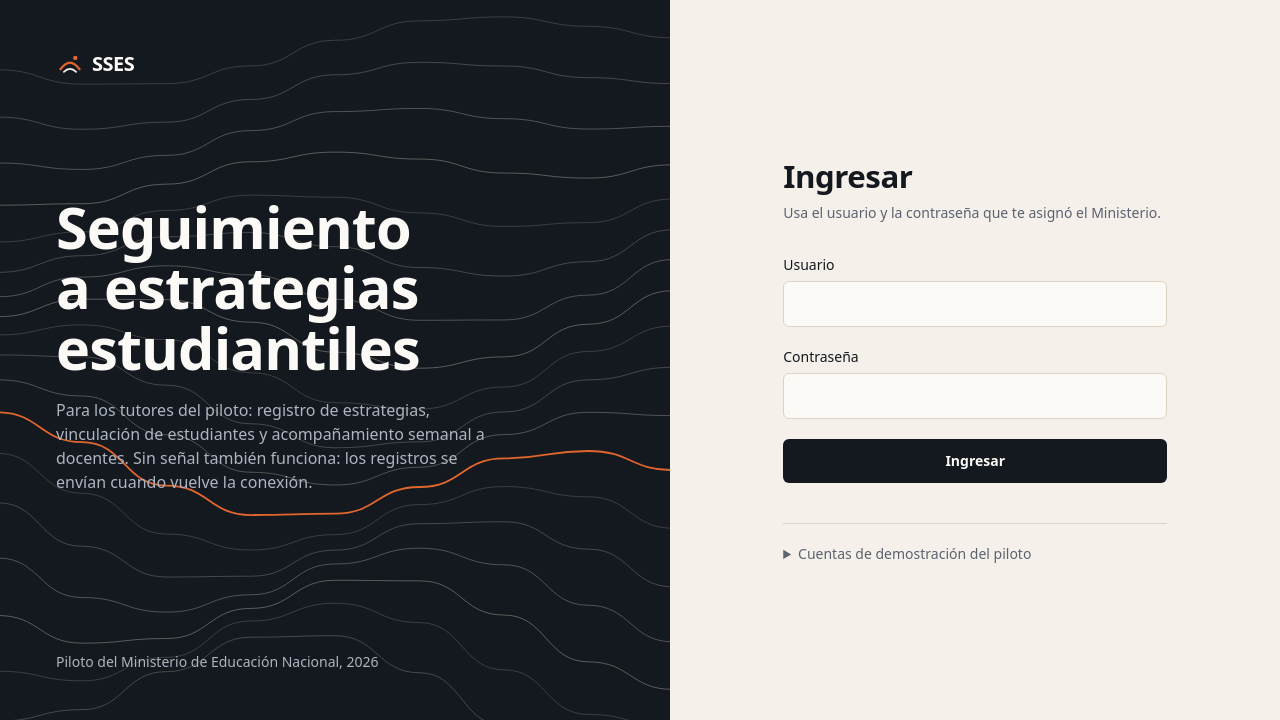
Test case: Login › al quinto intento informa hasta qué hora está bloqueada la cuenta
Type "tutor.caribe" into the field labelled "Usuario" at (975, 304), box [783, 281, 1167, 327]
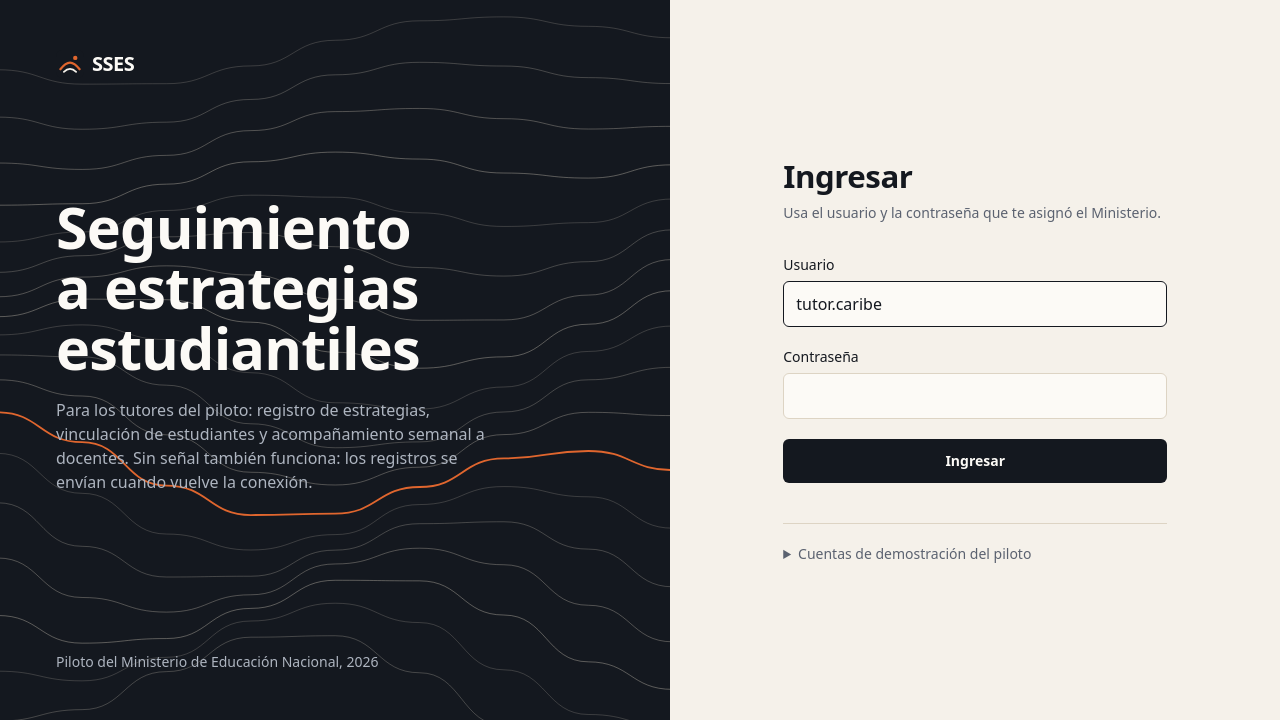
Type "mala" into the password field labelled "Contraseña" at (975, 396), box [783, 373, 1167, 419]
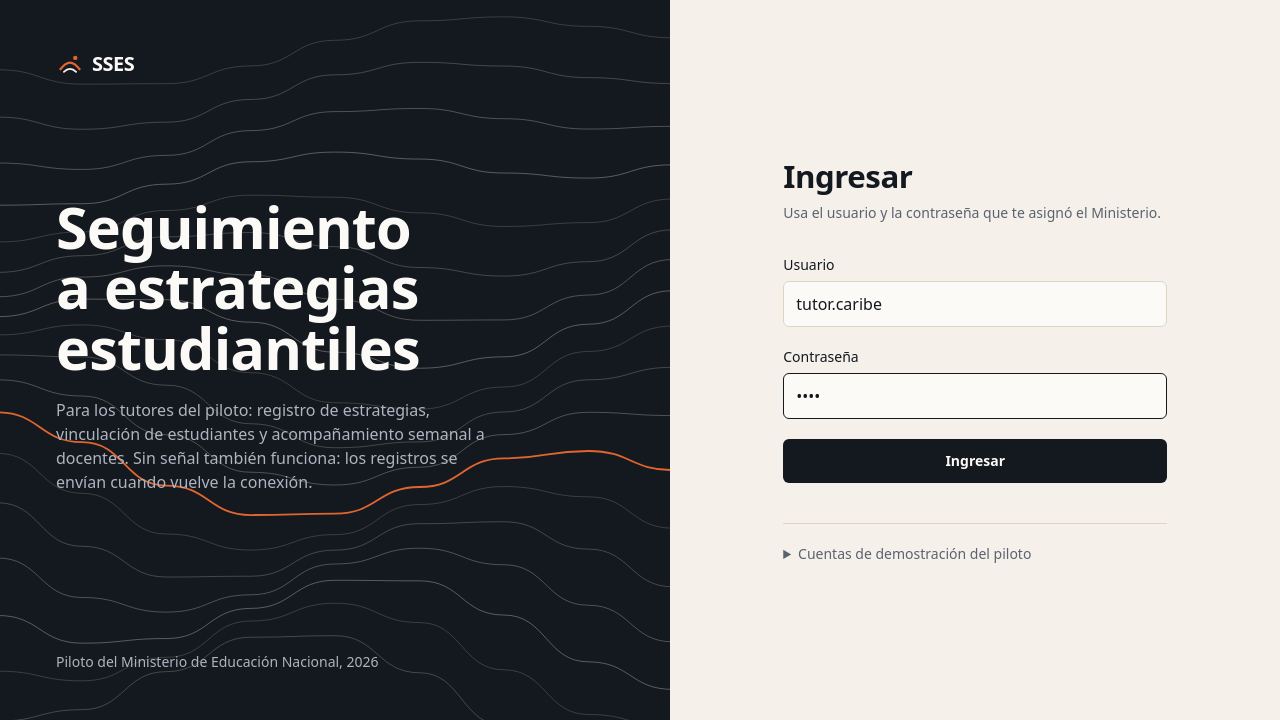
Click the button "Ingresar" at (975, 461), box [783, 439, 1167, 483]
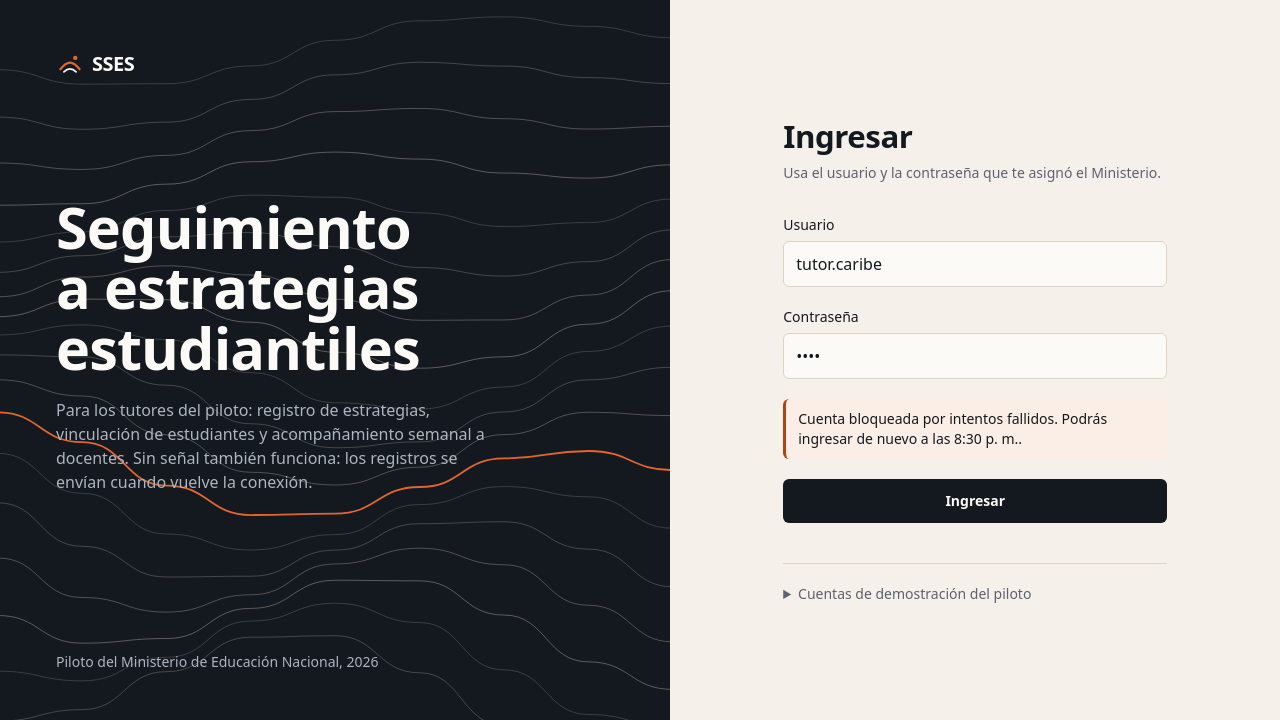
Result: the message shows "bloqueada" at [798, 409, 1107, 448]
